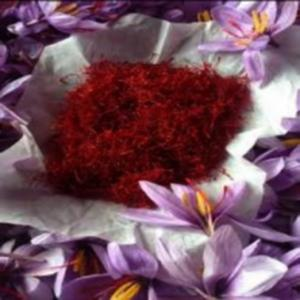Saffron: (126, 176, 256, 235), (208, 0, 292, 65)
